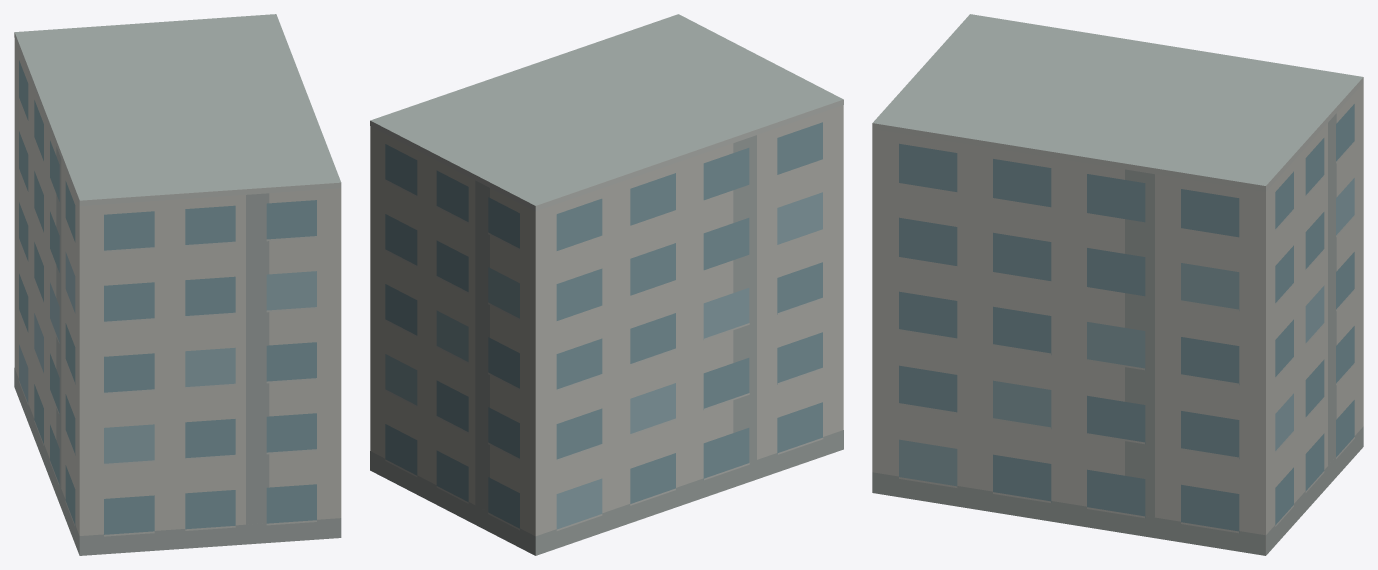
The model's file is residential-8fec5074-c3b4-4383-9ebd-88f1e2014950.glb.
3 views of the same model, side by side, from view 1: azimuth 30°, elevation 25°; view 2: azimuth 150°, elevation 25°; view 3: azimuth 270°, elevation 25° (orthographic). The views are drawn at different scales.
Visible parts, largest first — view 1: residential-8fec5074-c3b4-4383-9ebd-88f1e2014950.tmp; view 2: residential-8fec5074-c3b4-4383-9ebd-88f1e2014950.tmp; view 3: residential-8fec5074-c3b4-4383-9ebd-88f1e2014950.tmp.
Boxes of the visible parts, left/top/right/bottom form: residential-8fec5074-c3b4-4383-9ebd-88f1e2014950.tmp: left=14, top=14, right=341, bottom=555; residential-8fec5074-c3b4-4383-9ebd-88f1e2014950.tmp: left=370, top=14, right=843, bottom=555; residential-8fec5074-c3b4-4383-9ebd-88f1e2014950.tmp: left=872, top=14, right=1363, bottom=555.
Bounding box in the file's own units: 15.23 × 15.25 × 18.37.
